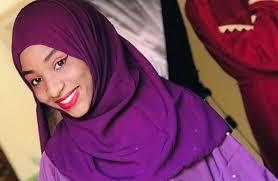No Mask: (12, 40, 97, 124)
